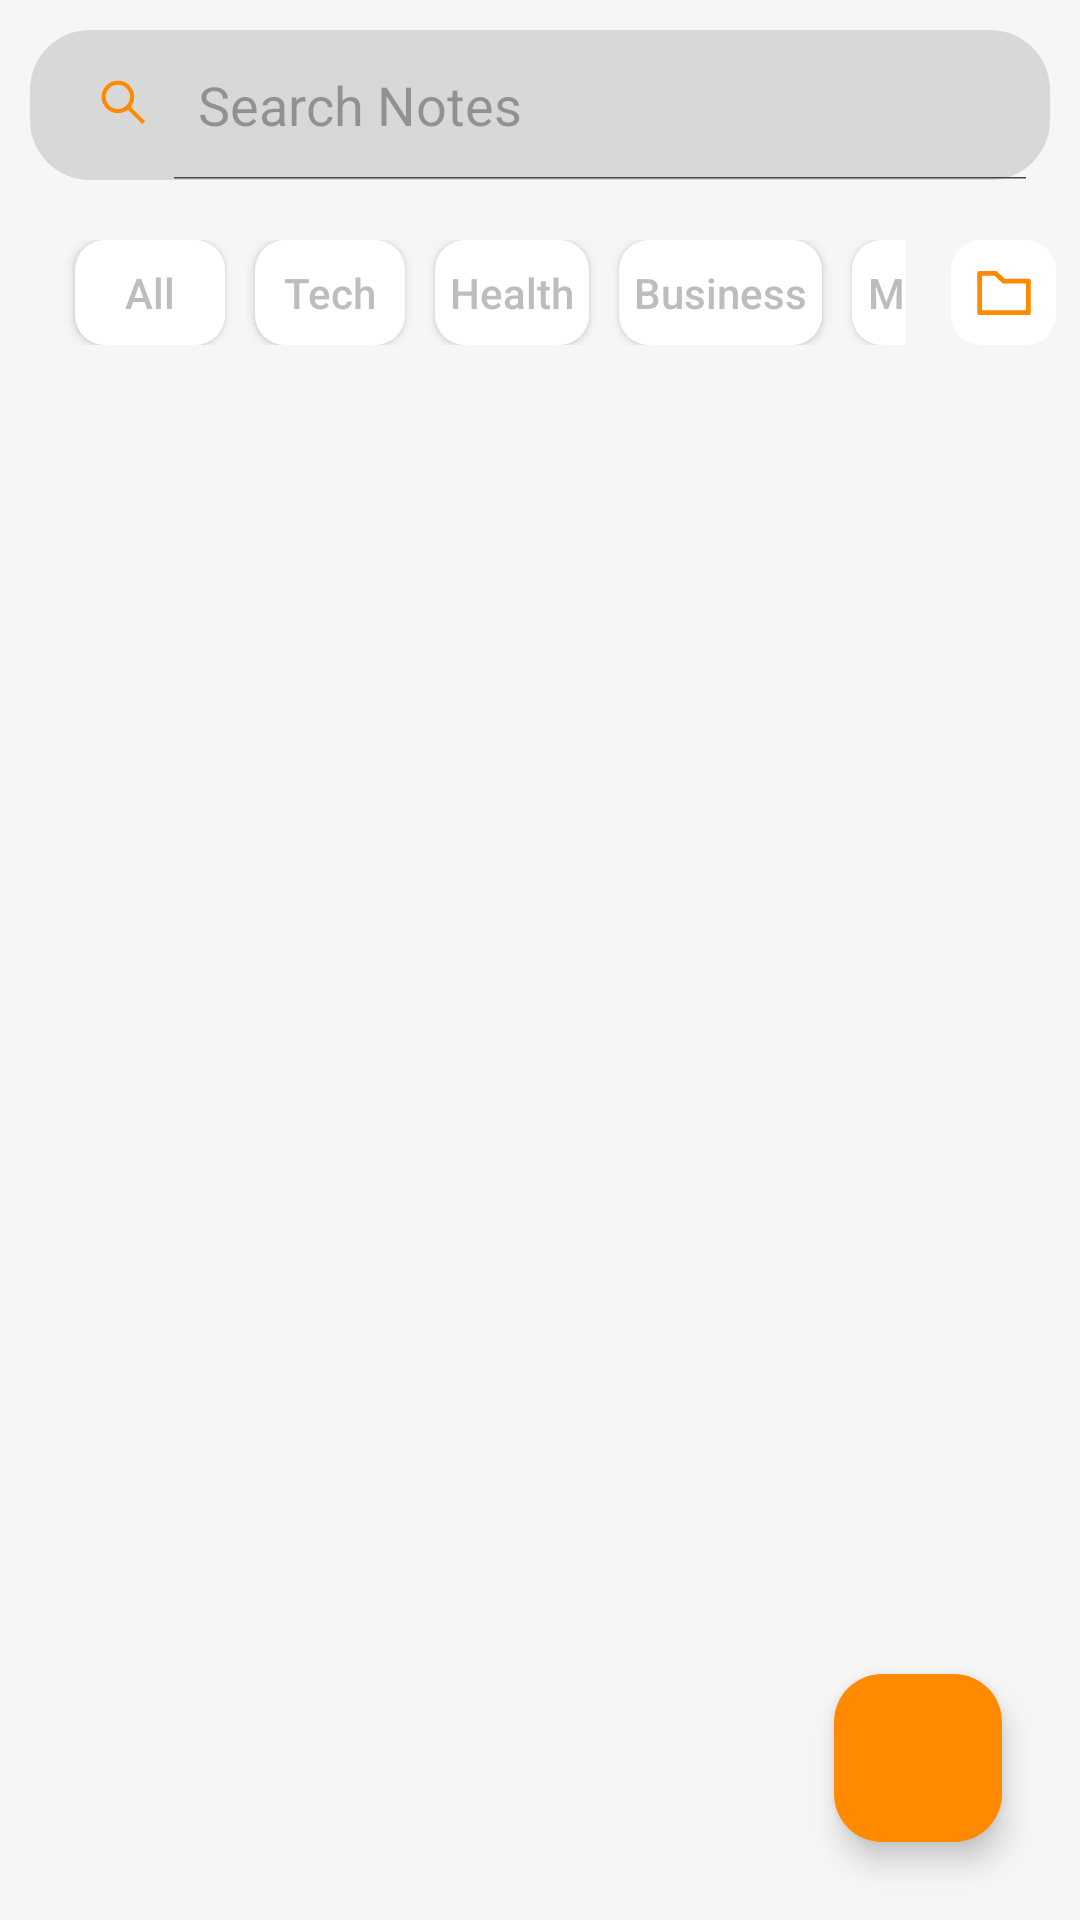

Screen size 1080px x 1920px. Icon name, then its box in pixels as rect(x1, y1, x2, y2):
categoryicon: rect(951, 240, 1056, 345)
